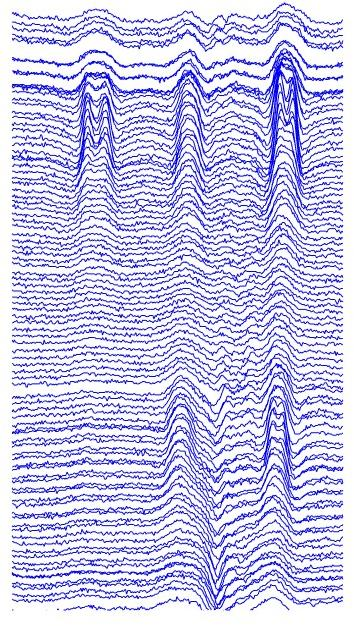defect: (262, 56, 305, 195), (258, 372, 291, 520), (79, 77, 116, 184), (169, 77, 205, 179), (158, 400, 200, 487)
